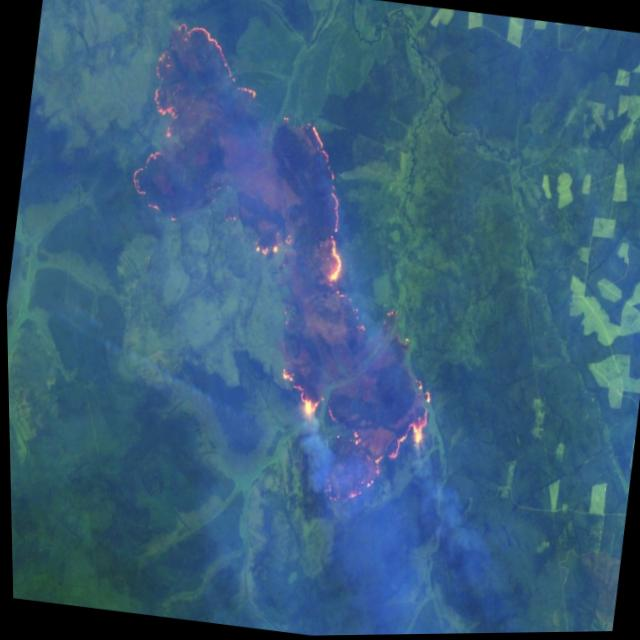fire: (80, 3, 482, 523)
